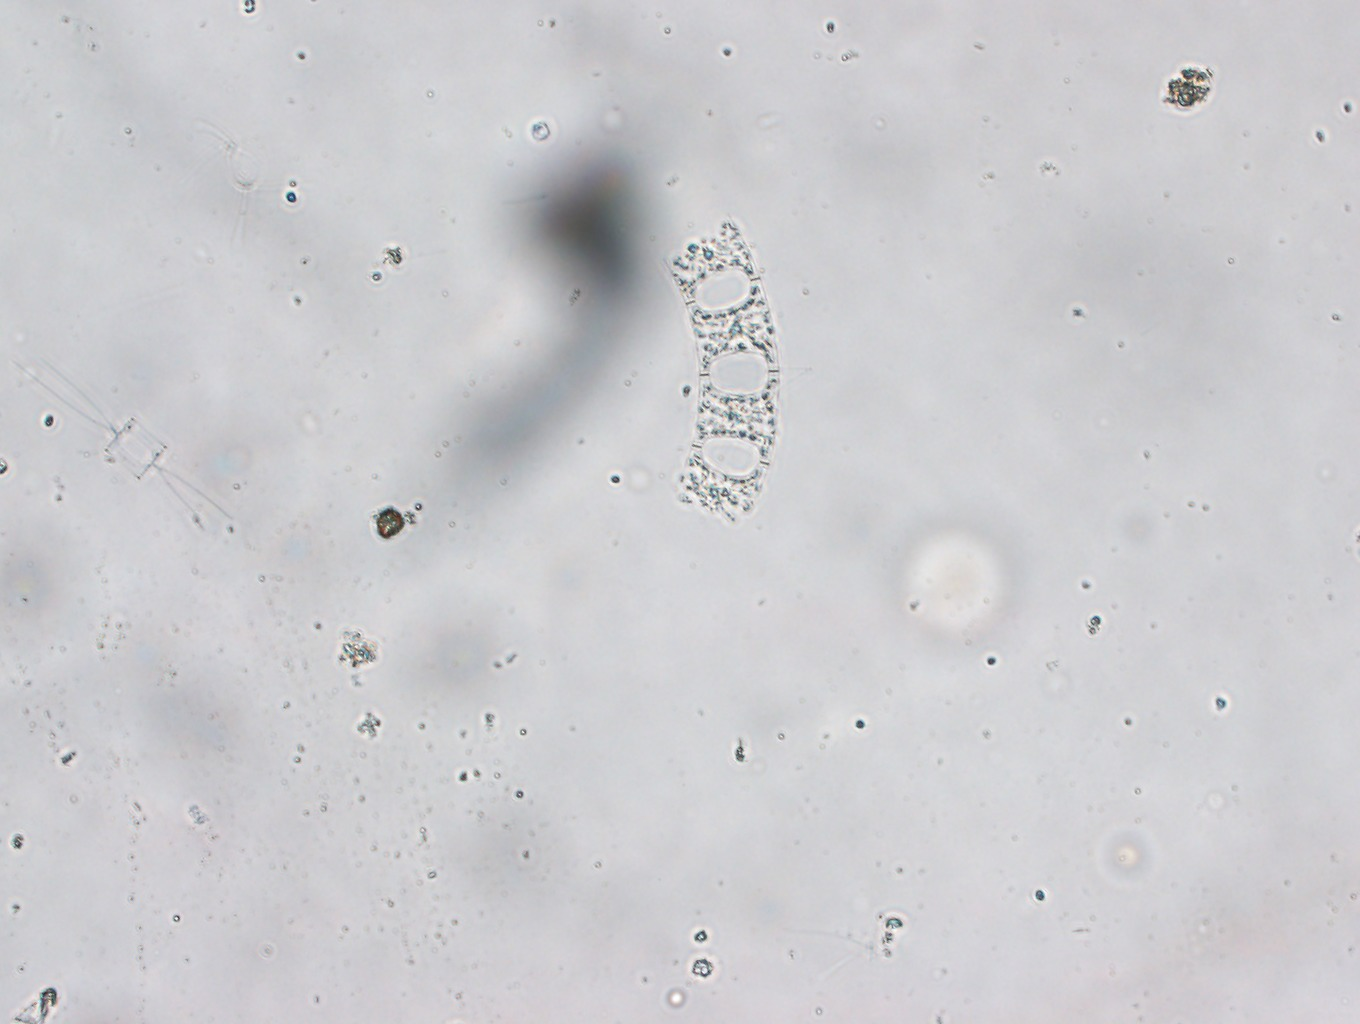chaetoceros: (13, 356, 234, 534)
eucampia: (657, 213, 779, 525)
